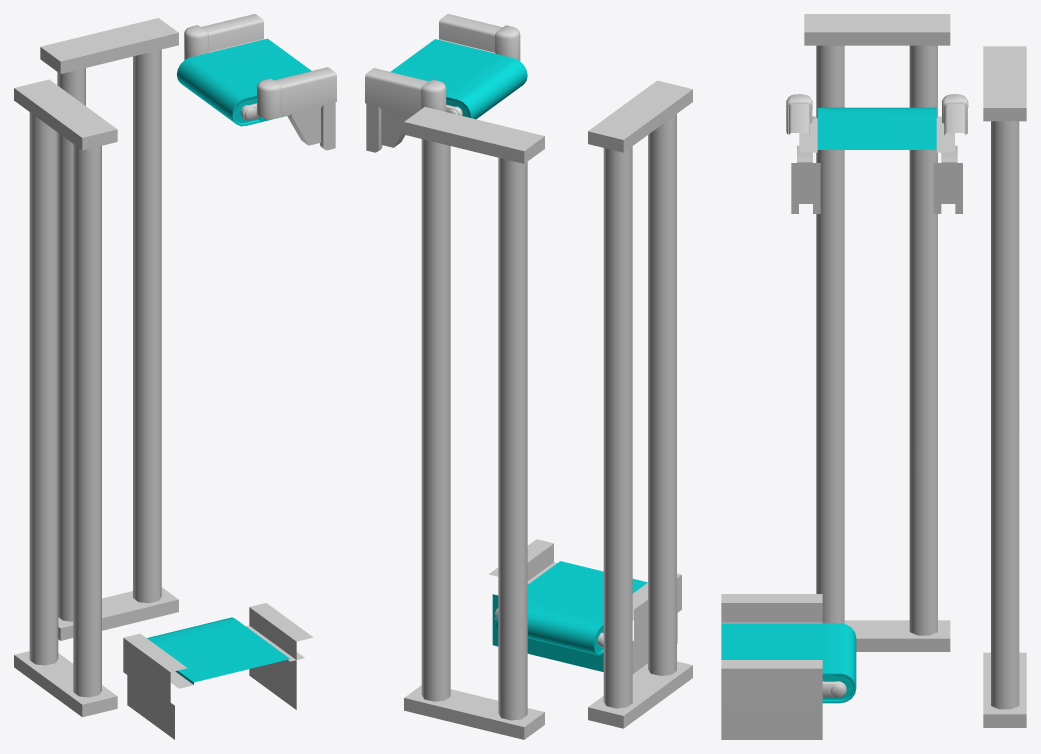
Rendered from Lift2UpRightInternalVariant.gltf.
3 views of the same model, side by side, from view 1: azimuth 30°, elevation 25°; view 2: azimuth 150°, elevation 25°; view 3: azimuth 270°, elevation 25° (orthographic). The views are drawn at different scales.
Visible parts, largest first — view 1: Lift_2UpRight_Layer0_LOD0; view 2: Lift_2UpRight_Layer0_LOD0; view 3: Lift_2UpRight_Layer0_LOD0.
Part boxes in pixels (x1,y1,x2,y2): Lift_2UpRight_Layer0_LOD0: [14, 14, 336, 739]; Lift_2UpRight_Layer0_LOD0: [365, 14, 692, 739]; Lift_2UpRight_Layer0_LOD0: [721, 14, 1026, 739].
Size of the model in its own units: 0.9812 by 2.27 by 0.9812.
